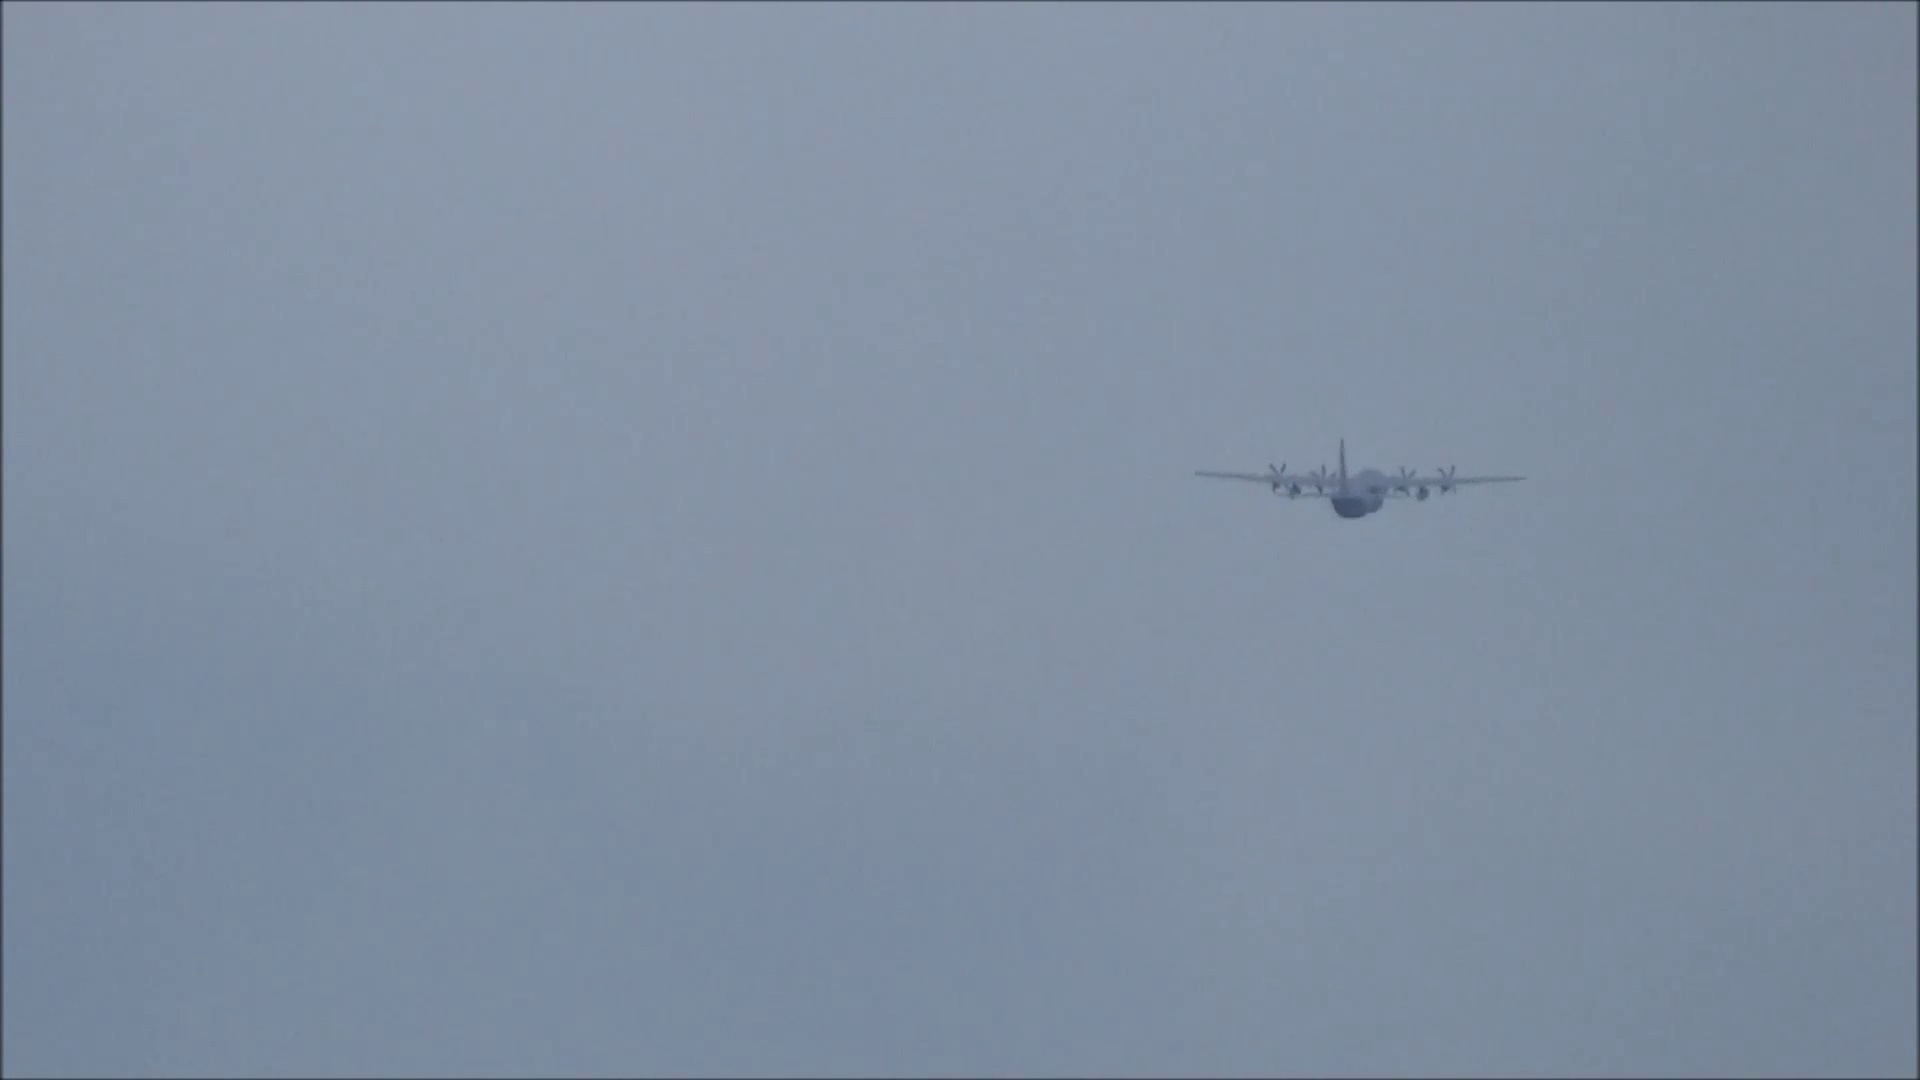Airplane: (1193, 435, 1534, 533)
